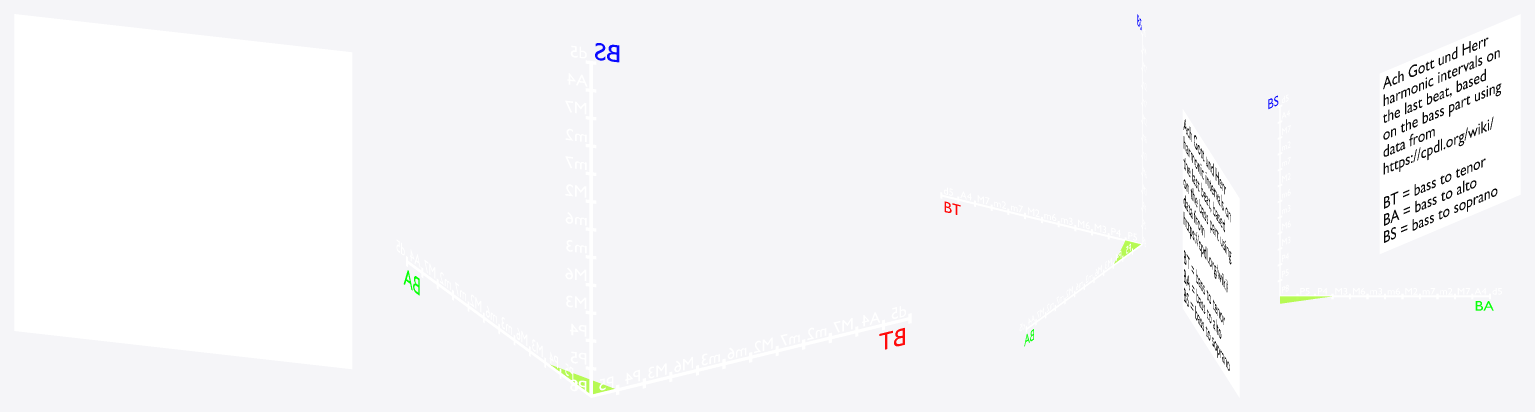
The model's file is bassFinalChart.glb.
3 renders of one model, left to right at view 1: azimuth 30°, elevation 25°; view 2: azimuth 150°, elevation 25°; view 3: azimuth 270°, elevation 25°, orthographic. The views are drawn at different scales.
Visible parts, largest first — view 1: textBox, z_axis, x_axis, y_axis; view 2: textBox, text, x_axis, y_axis; view 3: textBox, text, y_axis, z_axis, intervals.
Part boxes in pixels (x1=…): textBox: x1=14, y1=14, x2=352, y2=369; z_axis: x1=585, y1=60, x2=596, y2=396; x_axis: x1=591, y1=313, x2=911, y2=397; y_axis: x1=406, y1=256, x2=590, y2=397; textBox: x1=1182, y1=109, x2=1239, y2=397; text: x1=1183, y1=119, x2=1231, y2=370; x_axis: x1=940, y1=192, x2=1141, y2=244; y_axis: x1=1025, y1=244, x2=1142, y2=332; textBox: x1=1379, y1=14, x2=1520, y2=253; text: x1=1383, y1=37, x2=1501, y2=242; y_axis: x1=1280, y1=293, x2=1490, y2=299; z_axis: x1=1277, y1=104, x2=1282, y2=296; intervals: x1=1280, y1=296, x2=1331, y2=303.
Size of the model in its own units: 2.15 by 1.14 by 1.2.
